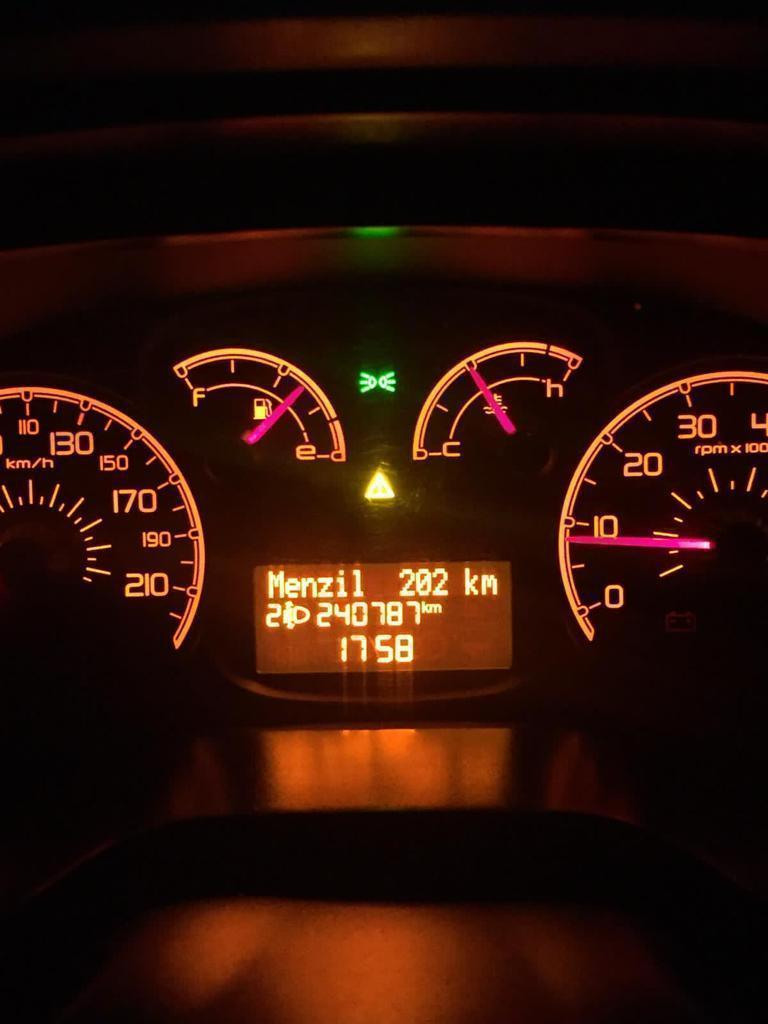0: (416, 566, 431, 596), (351, 600, 368, 626)
1: (339, 634, 348, 664)
2: (431, 567, 449, 596), (399, 567, 415, 597), (264, 602, 282, 628), (316, 601, 332, 628)
4: (333, 601, 351, 626)
5: (373, 632, 394, 665)
7: (349, 634, 367, 663), (405, 600, 420, 625), (370, 600, 385, 625)
8: (394, 632, 414, 662), (386, 600, 403, 626)
X: (463, 566, 479, 597), (350, 567, 366, 598), (268, 569, 284, 599), (480, 572, 498, 597), (317, 575, 334, 598), (334, 568, 347, 598), (300, 576, 317, 597), (284, 576, 299, 598), (428, 603, 443, 614), (421, 600, 428, 613)
odometer: (250, 554, 523, 676)
